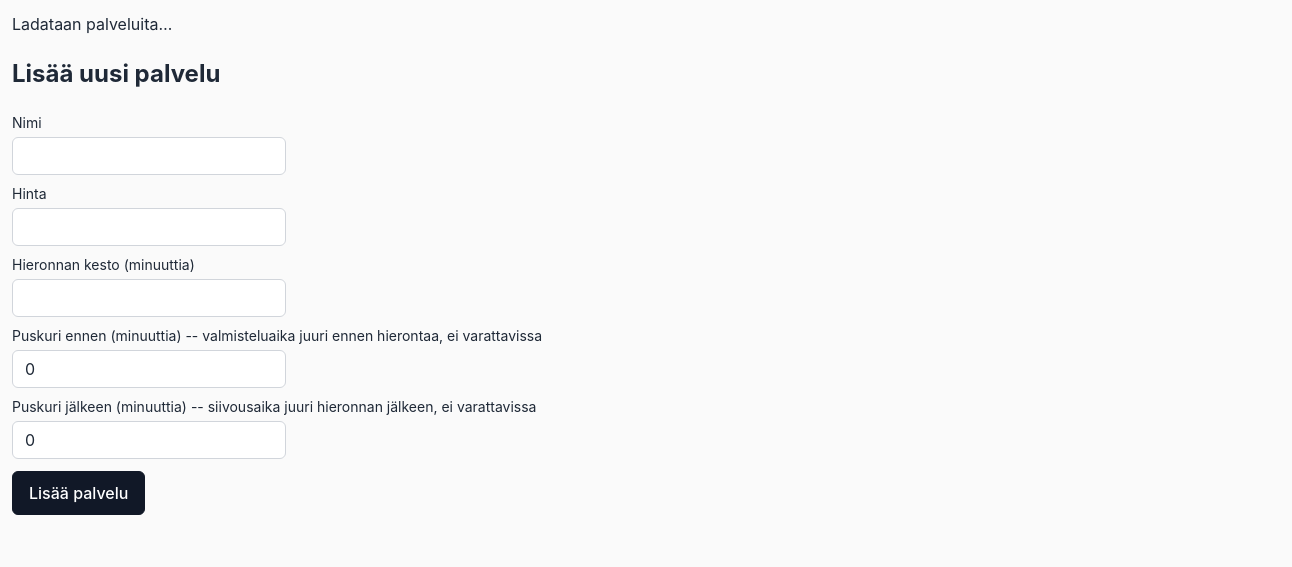
Test case: AdminServices › rejects an empty name client-side with no request sent
Expected: the element "Lisää uusi palvelu" is shown, [12,59,542,515]
Type "50" into the number field labelled "Hinta". click: x=149, y=227
box: [12,208,286,246]
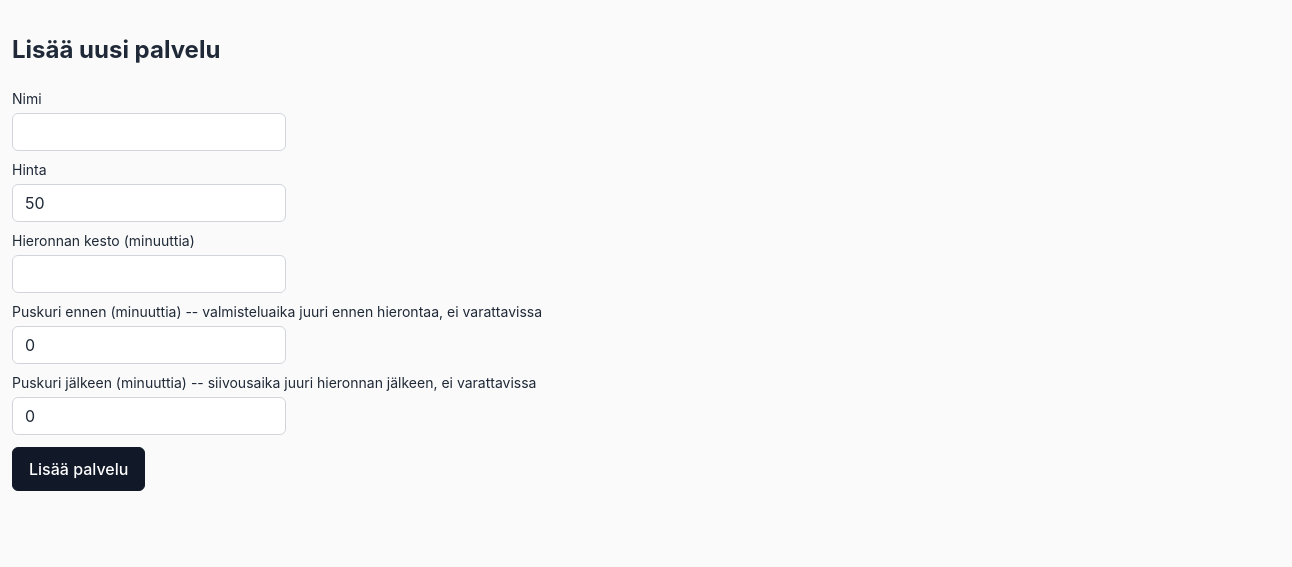
Type "30" into the number field labelled "Hieronnan kesto (minuuttia)". click: x=149, y=274
box: [12,255,286,293]
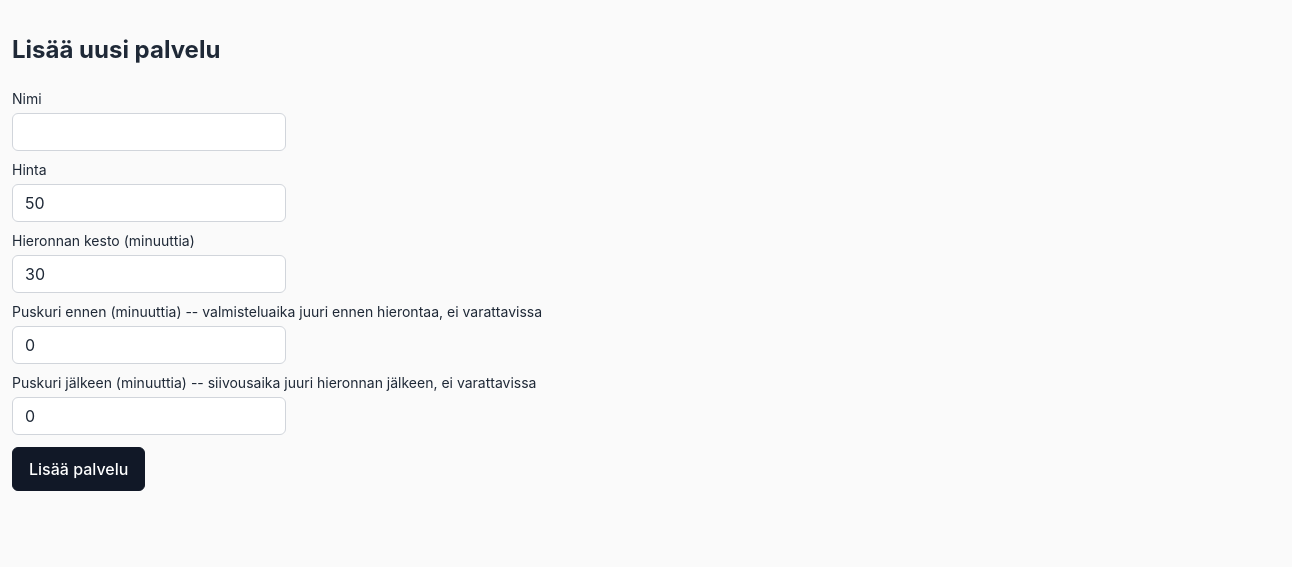
Click the button "Lisää palvelu". click: x=79, y=469
box: [12,447,145,491]
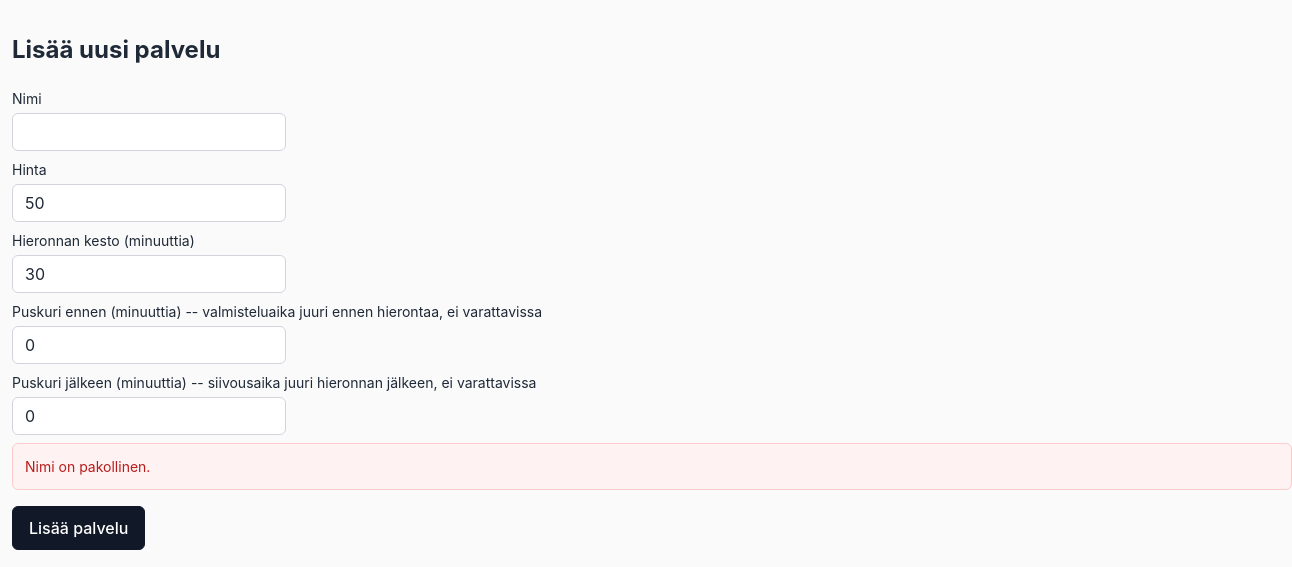
Expected: the message reads "Nimi on pakollinen.", [25,458,150,475]
